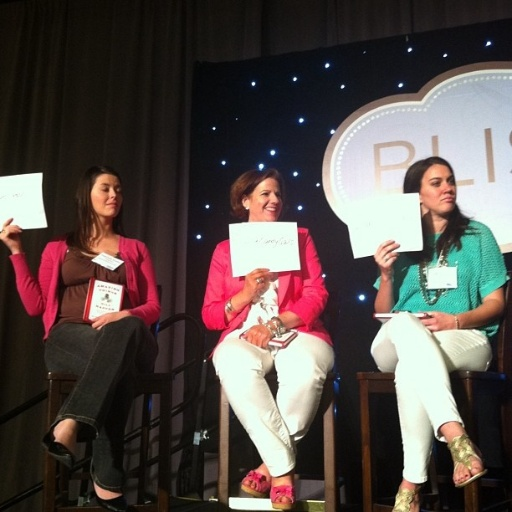hand: (240, 266, 273, 302), (373, 237, 401, 278), (240, 321, 275, 349), (417, 310, 455, 333), (0, 215, 23, 249), (90, 306, 120, 332)
